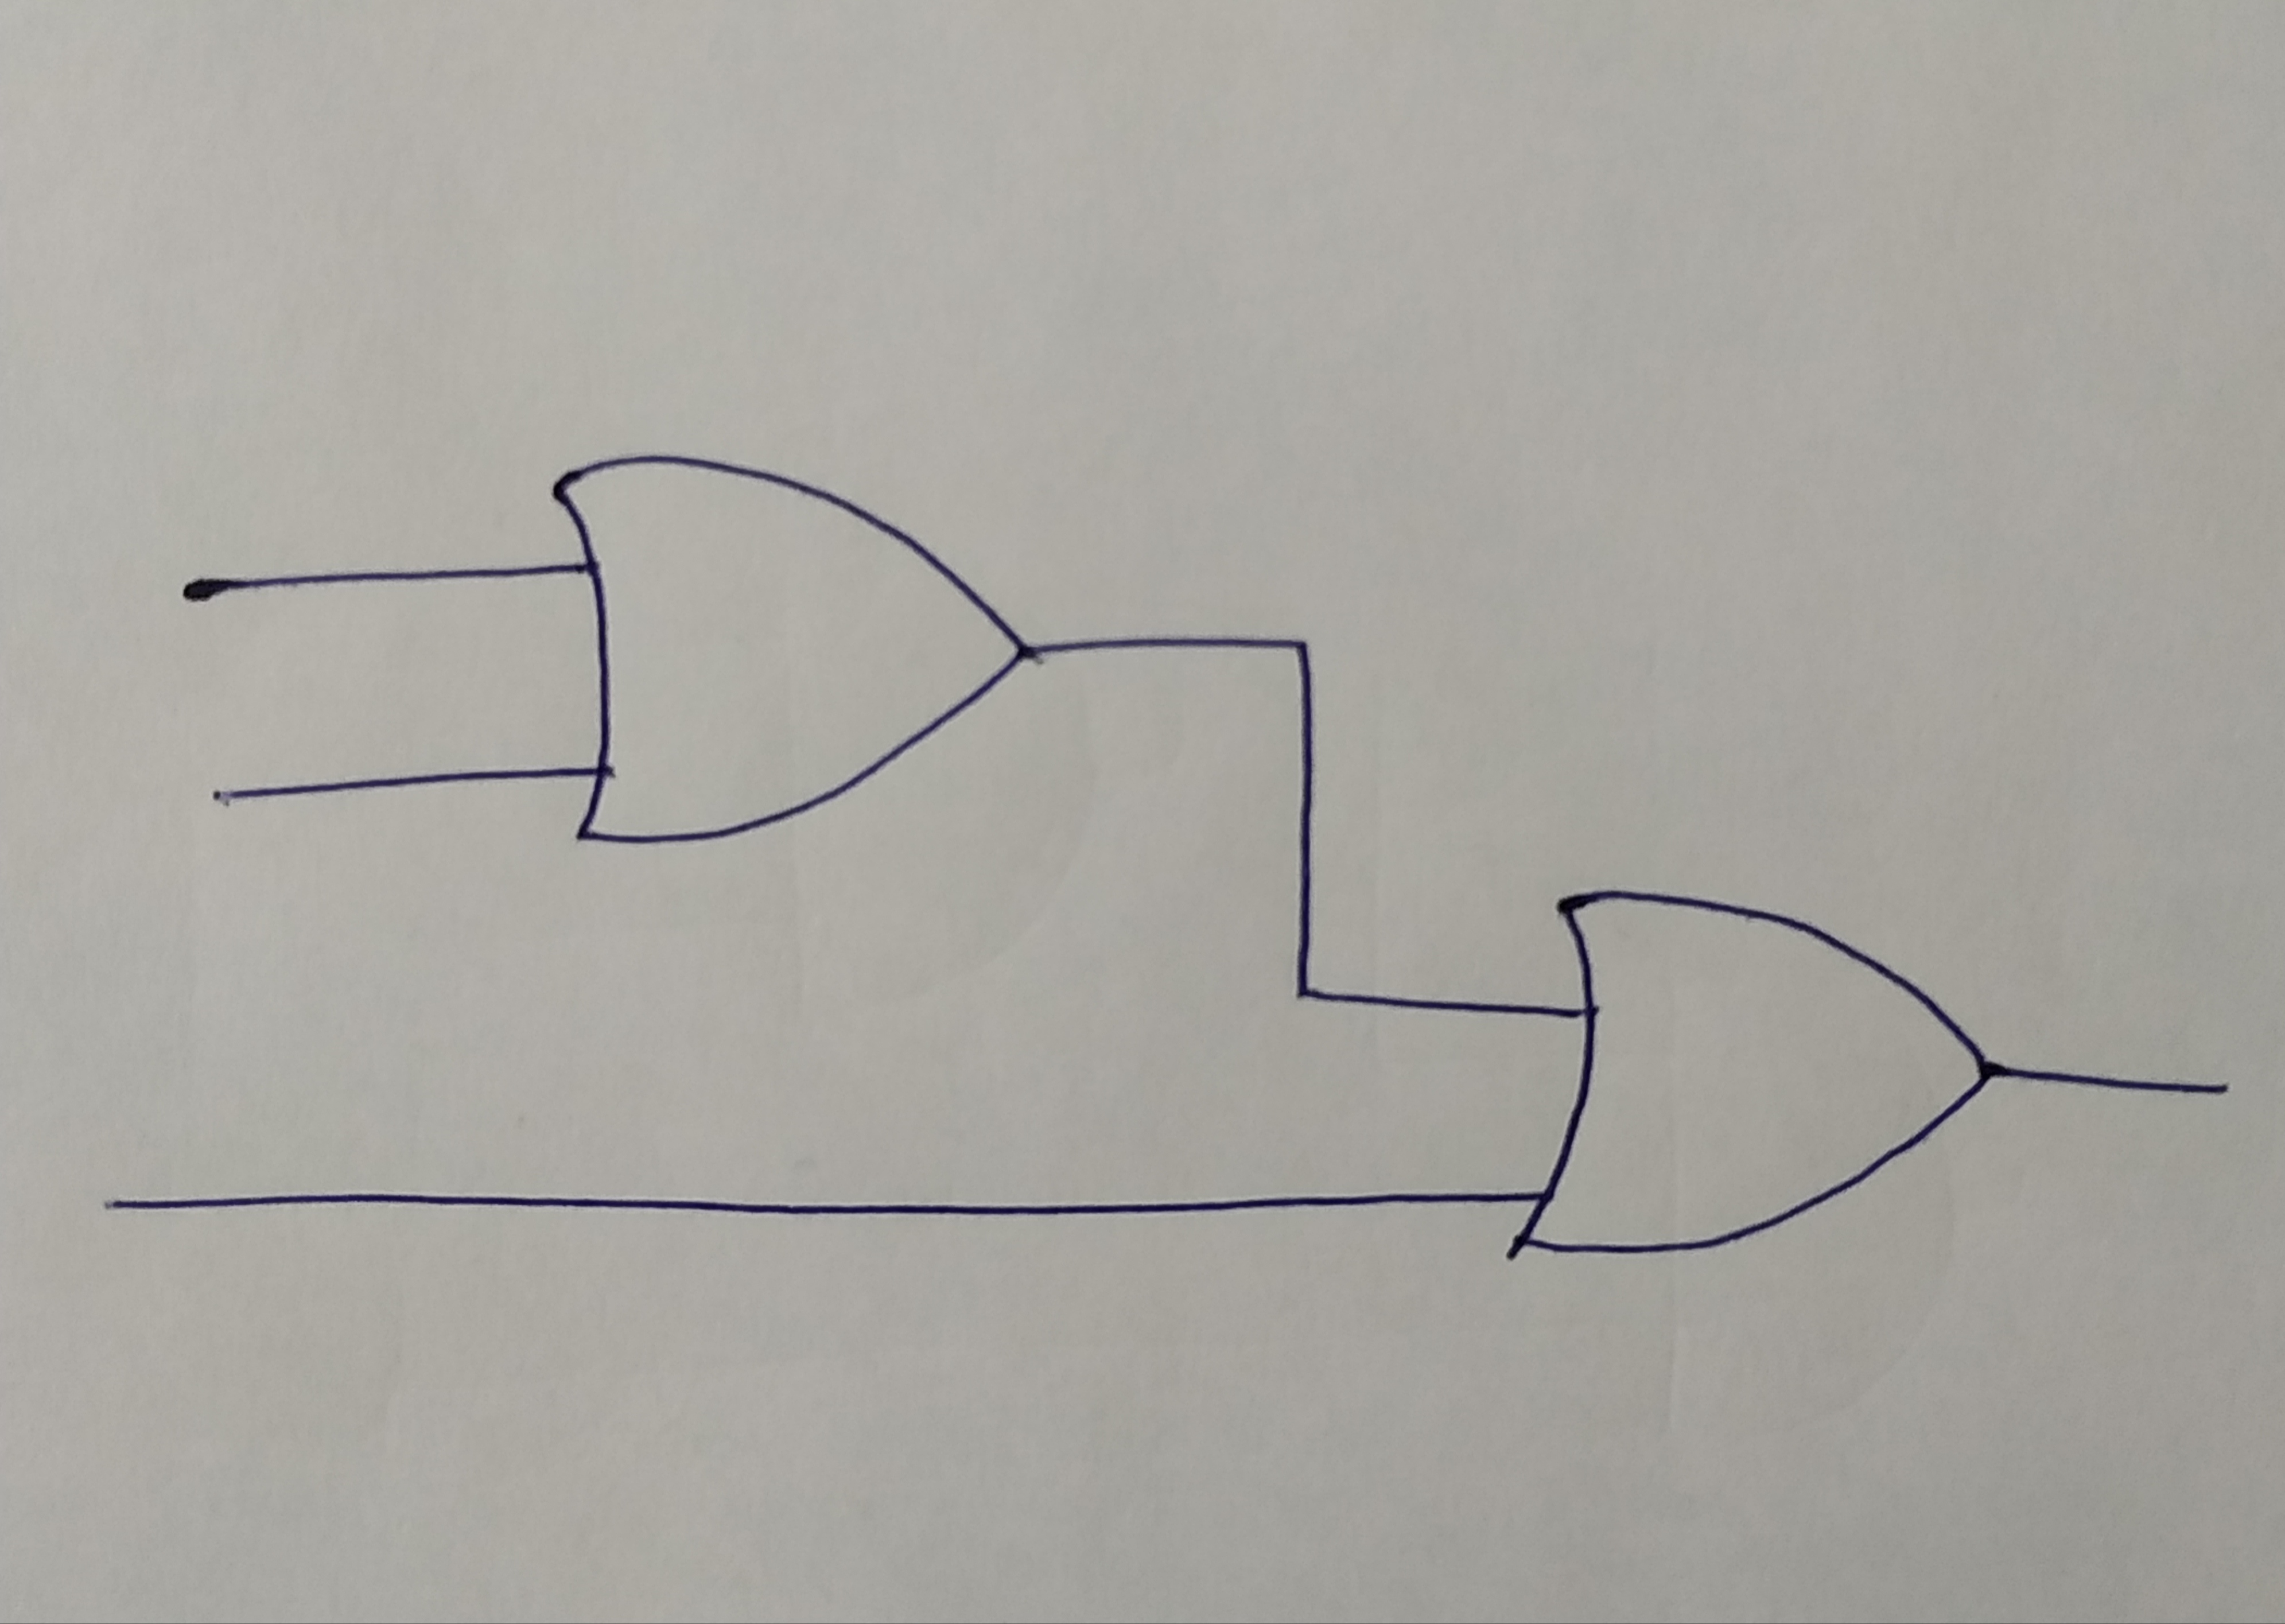or: (543, 460, 1028, 840), (1519, 893, 1983, 1253)
